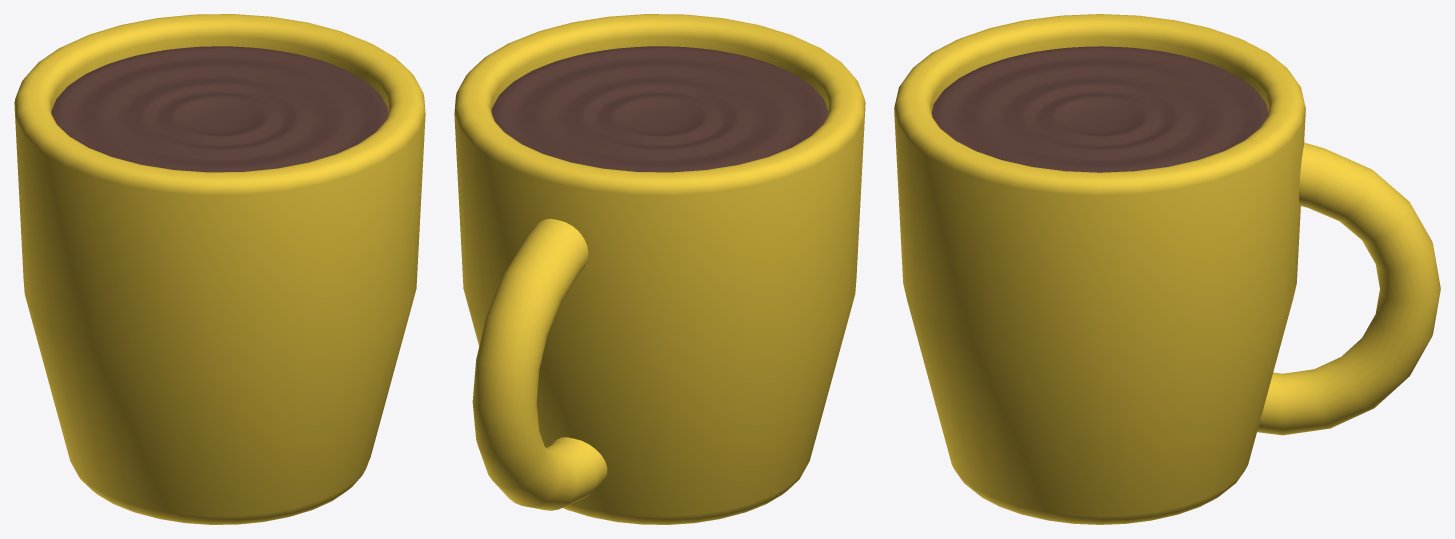
The model's file is XicaraCafe2.fbx.
3 views of the same model, side by side, from view 1: azimuth 30°, elevation 25°; view 2: azimuth 150°, elevation 25°; view 3: azimuth 270°, elevation 25° (orthographic).
Parts seen in each view (by area): view 1: Xicara_Cafe2; view 2: Xicara_Cafe2; view 3: Xicara_Cafe2.
Boxes of the visible parts, box(x1,y1,x2,y2) form: Xicara_Cafe2: box(14, 14, 425, 524); Xicara_Cafe2: box(454, 14, 865, 524); Xicara_Cafe2: box(894, 14, 1440, 524).
Size of the model in its own units: 200 by 200 by 266.
Materials: 1 (1 with a texture image).
